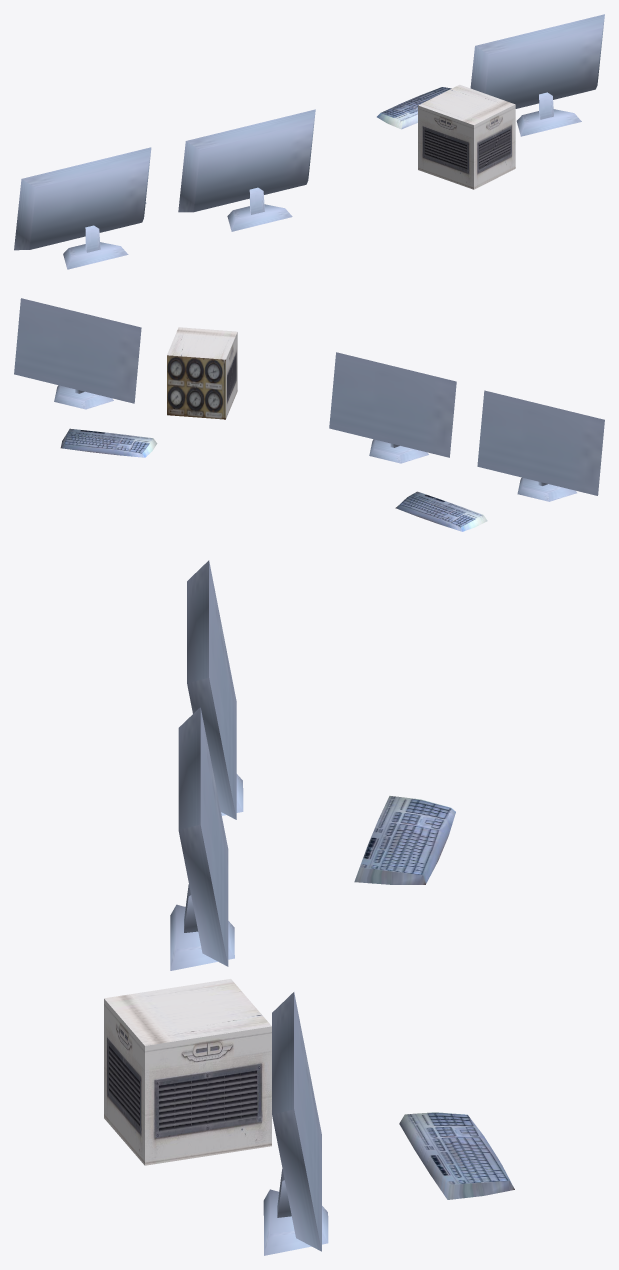
Rendered from dcs_lands_center_interior_eq.DAE.
3 renders of one model, top to bottom at view 1: azimuth 30°, elevation 25°; view 2: azimuth 150°, elevation 25°; view 3: azimuth 270°, elevation 25°, orthographic. The views are drawn at different scales.
Parts seen in each view (by area): view 1: Box05, Box04, Box06, Box09, Box08; view 2: Box04, Box05, Box06, Box09, Box08, Box07; view 3: Box09, Box05, Box06, Box04, Box07, Box08.
Boxes of the visible parts, x1,y1,x2,y2 form: Box05: (178, 109, 315, 231); Box04: (14, 147, 151, 269); Box06: (470, 14, 604, 136); Box09: (418, 84, 515, 189); Box08: (377, 87, 451, 129); Box04: (477, 390, 604, 501); Box05: (329, 352, 456, 463); Box06: (14, 298, 141, 409); Box09: (167, 327, 237, 419); Box08: (60, 428, 157, 457); Box07: (395, 491, 487, 531); Box09: (104, 979, 271, 1165); Box05: (170, 707, 234, 970); Box06: (263, 992, 328, 1255); Box04: (187, 560, 243, 819); Box07: (354, 796, 455, 884); Box08: (399, 1112, 514, 1199).
Bounding box in the file's own units: 9.94 × 1.47 × 3.14.
